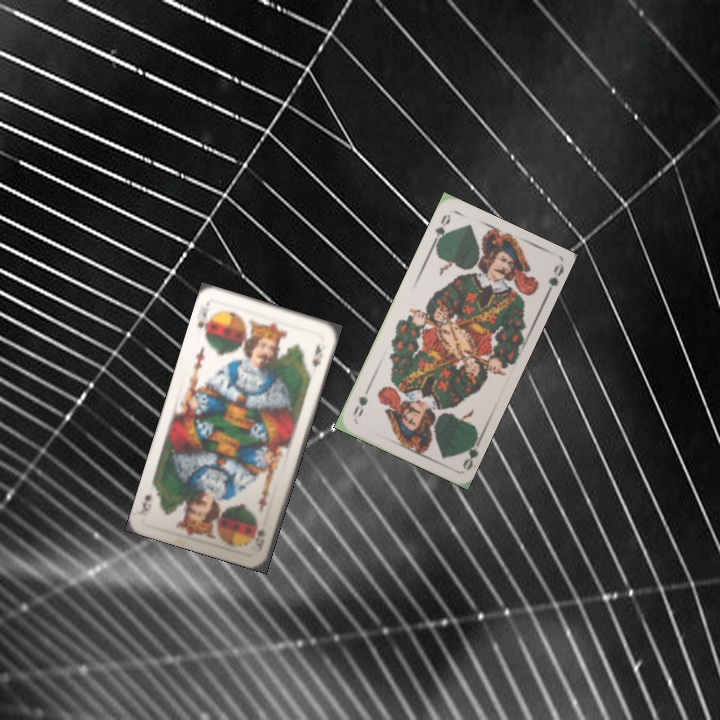GO: (458, 432, 485, 472), (428, 210, 453, 250)
SK: (193, 307, 215, 340), (251, 525, 267, 554)
